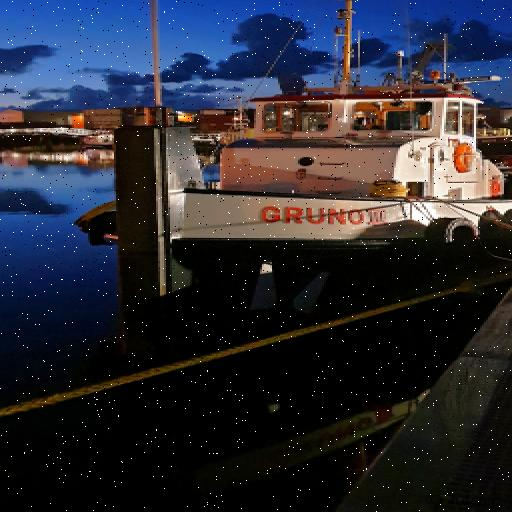tugboat: (71, 1, 512, 325)
